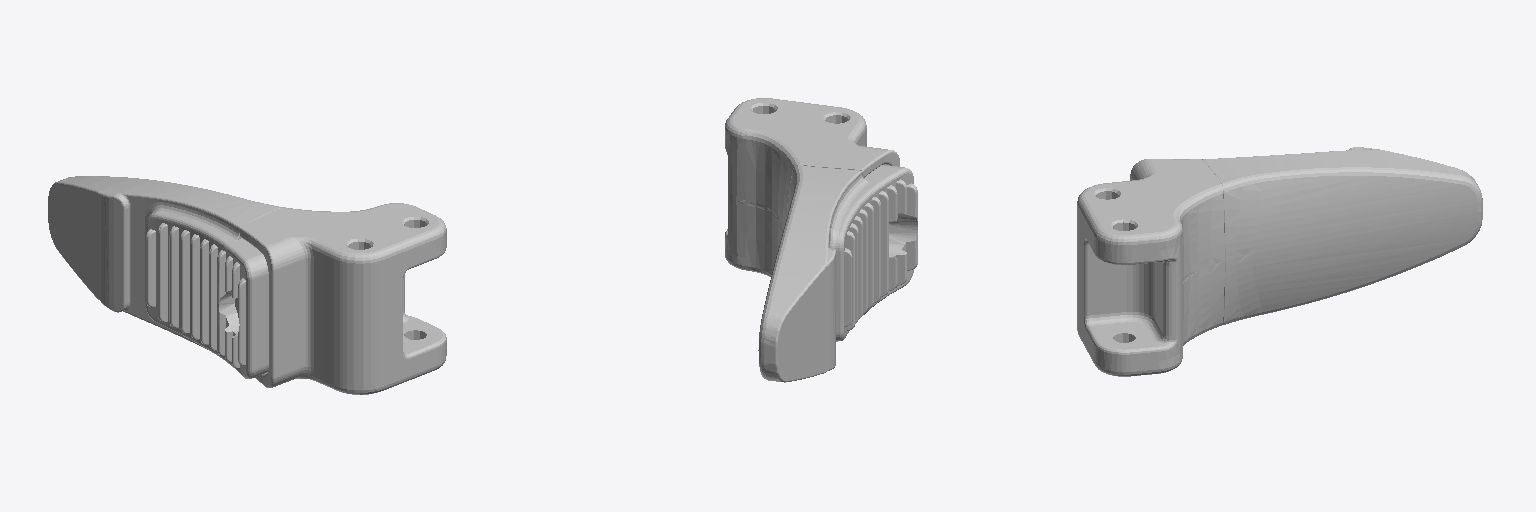
Rendered from l_f_fingers.obj.
3 views of the same model, side by side, from view 1: azimuth 30°, elevation 25°; view 2: azimuth 150°, elevation 25°; view 3: azimuth 270°, elevation 25° (orthographic).
Visible parts, largest first — view 1: obj1; view 2: obj1; view 3: obj1.
Part boxes in pixels (left/top/right/bottom): obj1: left=48, top=176, right=446, bottom=394; obj1: left=725, top=98, right=917, bottom=382; obj1: left=1077, top=147, right=1482, bottom=376.
Size of the model in its own units: 0.0323 by 0.02 by 0.0521.